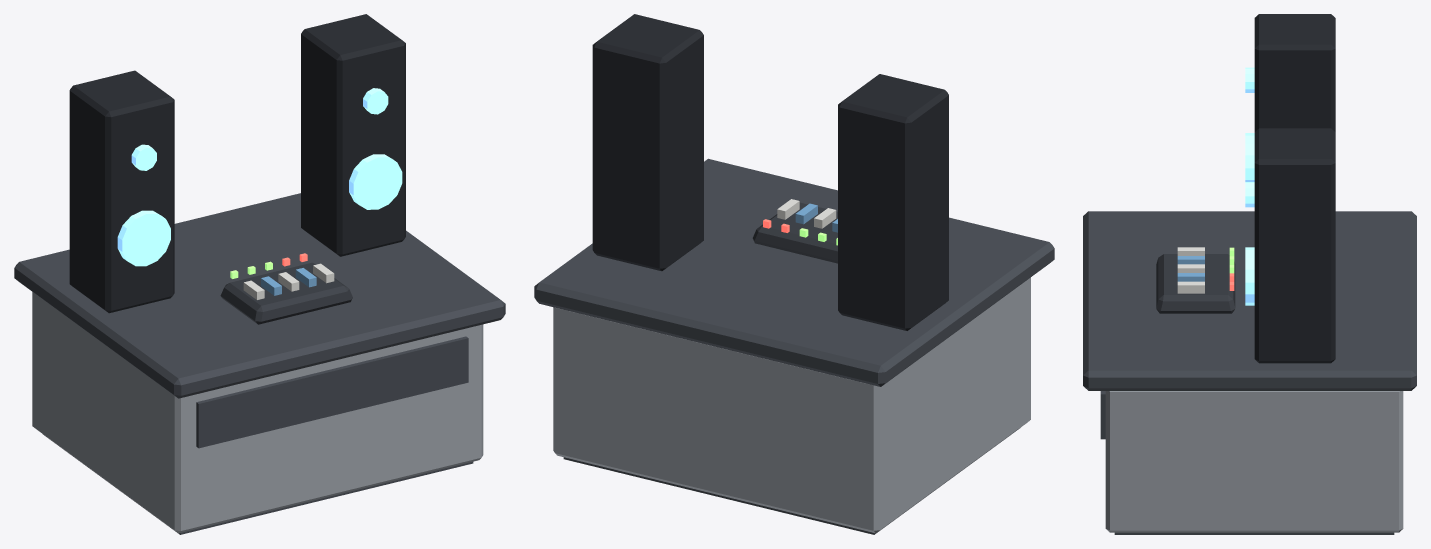
The model's file is headphones_p1_4.glb.
3 renders of one model, left to right at view 1: azimuth 30°, elevation 25°; view 2: azimuth 150°, elevation 25°; view 3: azimuth 270°, elevation 25°, orthographic. The views are drawn at different scales.
Visible parts, largest first — view 1: headphones_p1_4_mesh_Desk, headphones_p1_4_mesh; view 2: headphones_p1_4_mesh_Desk, headphones_p1_4_mesh; view 3: headphones_p1_4_mesh_Desk, headphones_p1_4_mesh.
Boxes of the visible parts, bbox=[...] form: headphones_p1_4_mesh_Desk: bbox=[14, 193, 505, 534]; headphones_p1_4_mesh: bbox=[69, 14, 405, 324]; headphones_p1_4_mesh_Desk: bbox=[534, 158, 1054, 534]; headphones_p1_4_mesh: bbox=[592, 14, 948, 330]; headphones_p1_4_mesh_Desk: bbox=[1083, 211, 1416, 534]; headphones_p1_4_mesh: bbox=[1156, 14, 1335, 363].
Bounding box in the file's own units: 0.86 × 0.92 × 0.74.
